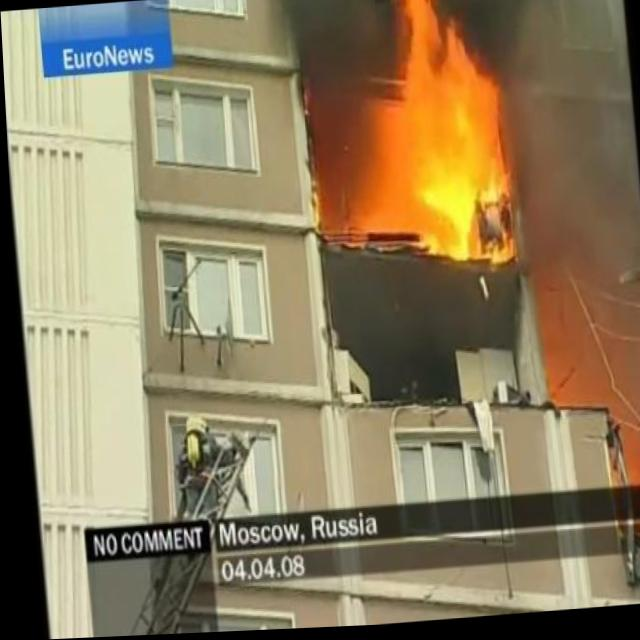fire: (378, 0, 527, 274)
